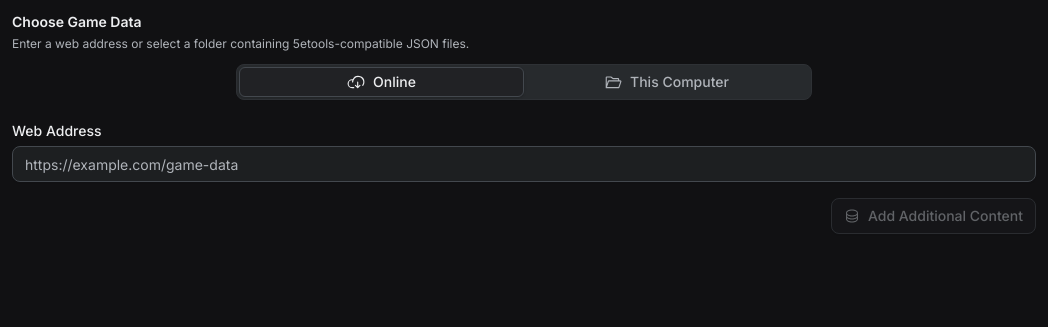
Test case: data source switching › rechecks a finished preview after the active source changes
The width and height of the screenshot is (1048, 327).
Later steps or results of the test are not shown.
Type "https://next.example.test/rules" into the field labelled "Web Address" at coordinates (524, 164), box left=12, top=146, right=1036, bottom=182
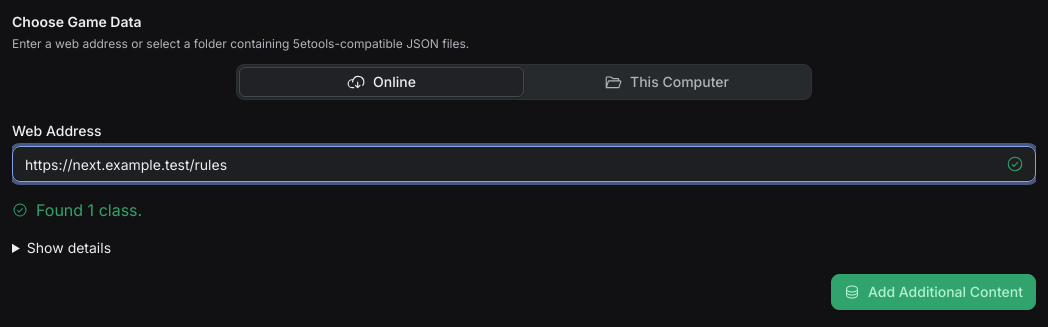
Expected: the text "Found 1 class." is shown, left=12, top=200, right=142, bottom=220
